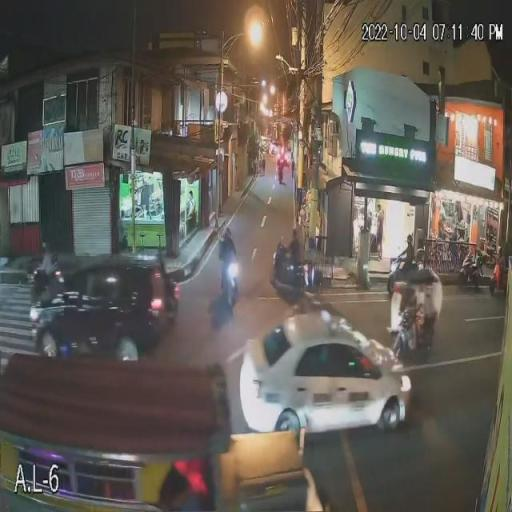helmet: (215, 224, 236, 241), (286, 228, 302, 242), (405, 235, 414, 245)
motorcycle: (267, 239, 329, 305), (211, 249, 256, 320), (387, 256, 435, 271)
rider: (214, 238, 239, 271), (285, 240, 305, 278), (399, 246, 420, 263)
